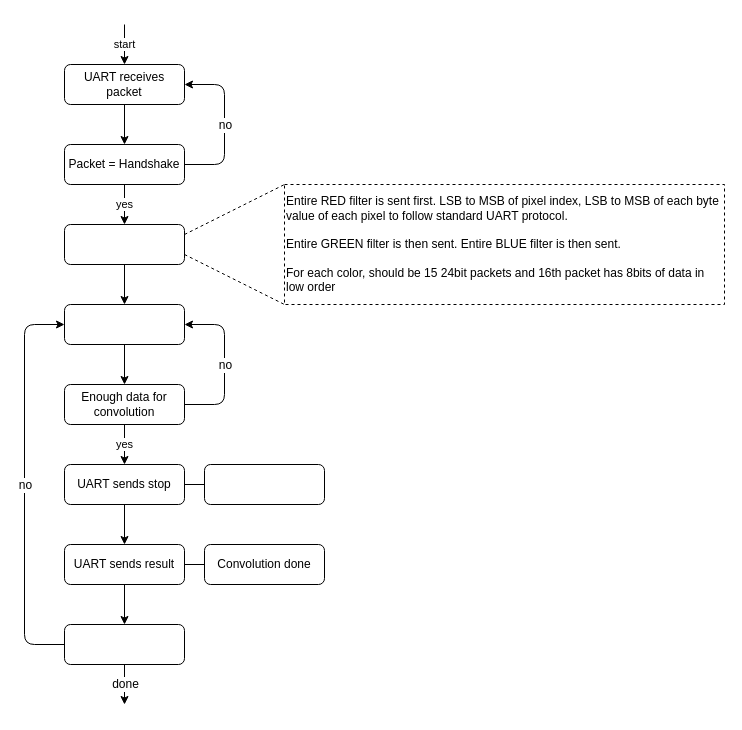
Image size: 742x730. Some labels were removed from this diagram. The centre of each missing label's shape, as x and y in pixels:
Convolution occurs: [264,484]
Counter reached all pixels: [124,644]
UART receives filter: [124,244]
UART receives pixel: [124,324]
